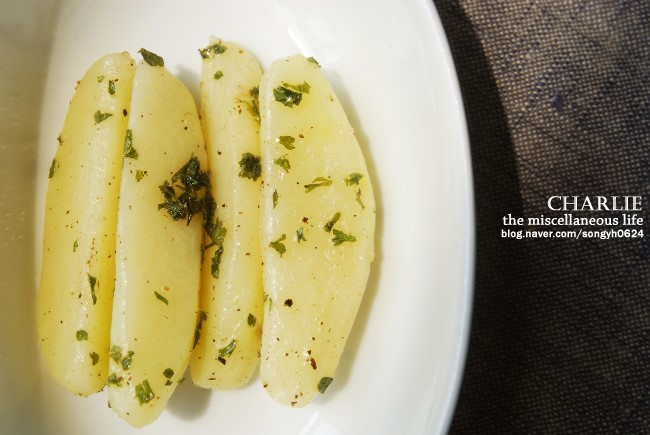boiled potatoes: (69, 60, 356, 381)
